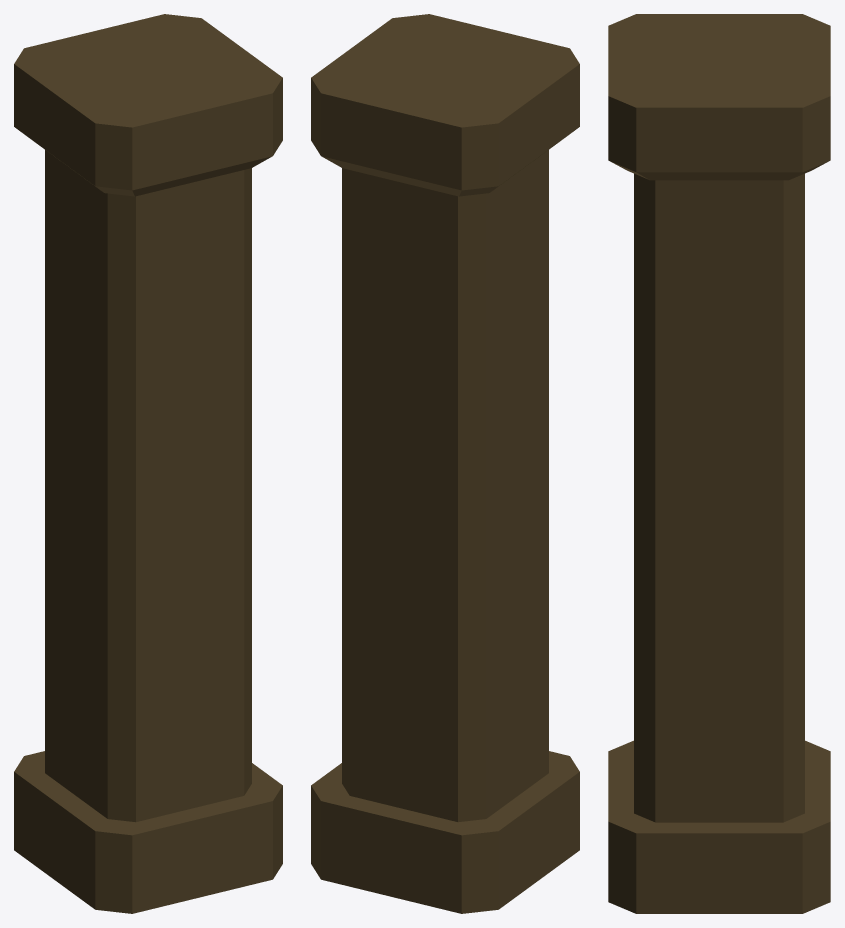
The model's file is fantasy_column_1.fbx.
The picture shows the model from 3 angles, left to right: view 1: azimuth 30°, elevation 25°; view 2: azimuth 150°, elevation 25°; view 3: azimuth 270°, elevation 25°; orthographic projection. The views are drawn at different scales.
Parts seen in each view (by area): view 1: Cube.021; view 2: Cube.021; view 3: Cube.021.
Boxes of the visible parts, x1=… form: Cube.021: x1=14, y1=14, x2=282, y2=913; Cube.021: x1=311, y1=14, x2=579, y2=913; Cube.021: x1=608, y1=14, x2=830, y2=913.
Size of the model in its own units: 74.88 by 300 by 74.88.
